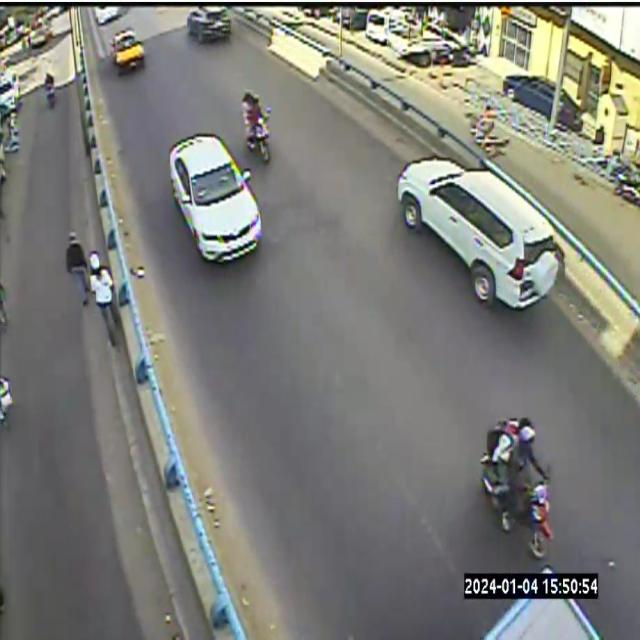car: (397, 156, 559, 308), (169, 133, 261, 262), (483, 599, 601, 639), (187, 6, 231, 42), (112, 30, 144, 74)
